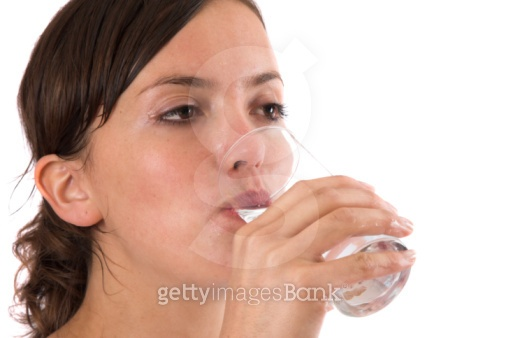glass of water: (215, 125, 411, 315)
